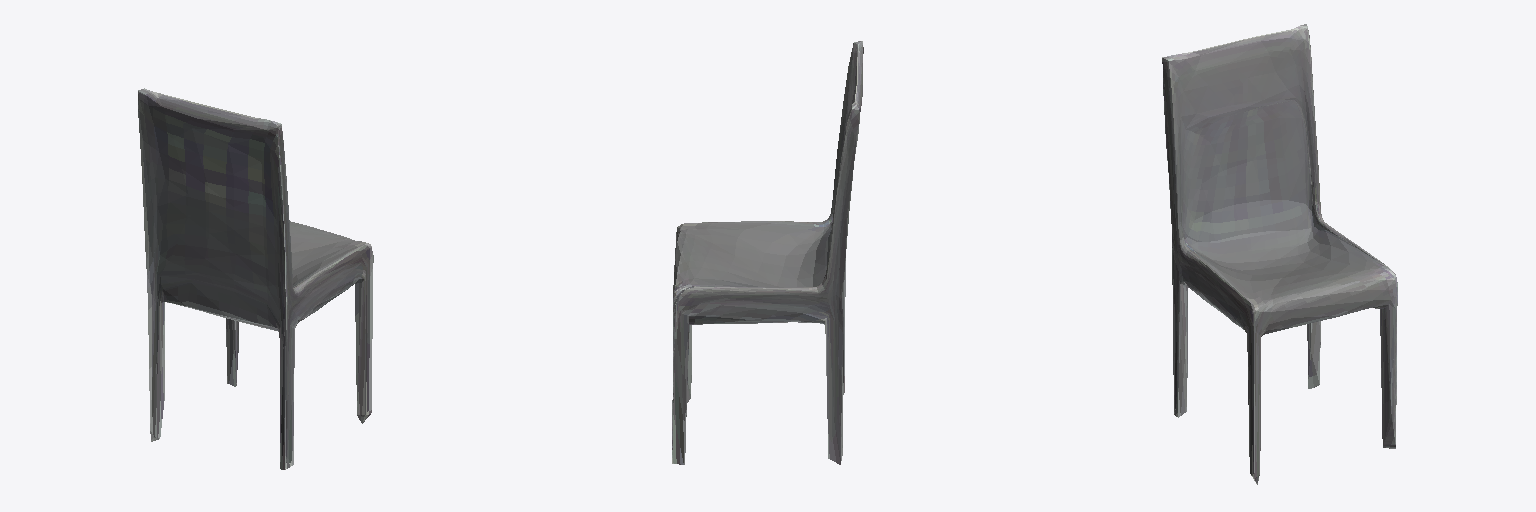
The picture shows the model from 3 angles: view 1: azimuth 30°, elevation 25°; view 2: azimuth 150°, elevation 25°; view 3: azimuth 270°, elevation 25°; orthographic projection.
Bounding box in the file's own units: 0.5991 × 1 × 0.5829.
Materials: 1 (1 with a texture image).